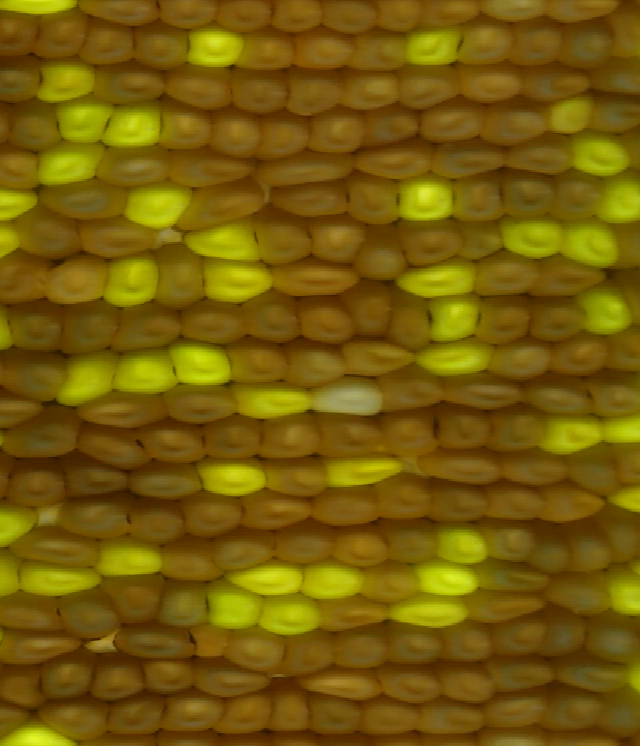fluorescent: (56, 349, 136, 411), (181, 217, 269, 267), (174, 22, 258, 74), (116, 339, 184, 403), (564, 280, 640, 335), (399, 253, 486, 301), (168, 329, 238, 388), (307, 369, 383, 423), (230, 378, 312, 427), (569, 123, 633, 185), (393, 172, 464, 227), (312, 453, 409, 493), (37, 51, 101, 111), (198, 253, 273, 304), (11, 556, 101, 598), (495, 209, 569, 260), (536, 408, 607, 460), (265, 588, 330, 643), (91, 533, 162, 583), (202, 577, 260, 637), (121, 178, 195, 225), (196, 454, 270, 501), (99, 102, 174, 148), (104, 253, 162, 312), (225, 559, 310, 599), (564, 219, 622, 277), (421, 288, 479, 346), (35, 141, 104, 187), (299, 557, 368, 603), (56, 92, 117, 144), (414, 339, 495, 378), (402, 19, 464, 69), (393, 591, 467, 632), (432, 519, 490, 570), (417, 560, 483, 601), (551, 95, 609, 138), (599, 170, 640, 229), (0, 497, 42, 553), (0, 172, 43, 223), (595, 404, 640, 444), (607, 565, 640, 619)
nonfluorescent: (170, 178, 273, 228), (39, 171, 139, 220), (117, 616, 206, 670), (0, 402, 78, 462), (268, 260, 370, 304), (1, 346, 72, 409), (1, 529, 110, 570), (14, 201, 83, 265), (169, 145, 267, 190), (177, 297, 259, 349), (244, 288, 315, 348), (263, 143, 362, 186), (511, 369, 591, 422), (478, 96, 554, 151), (139, 413, 216, 467), (338, 167, 406, 227), (74, 420, 154, 471), (352, 139, 444, 183), (421, 445, 505, 493), (495, 441, 577, 490), (247, 212, 320, 267), (167, 60, 244, 112), (316, 409, 386, 466), (257, 178, 354, 219), (131, 17, 194, 80), (569, 437, 630, 502), (302, 293, 368, 353), (74, 214, 168, 256), (186, 488, 254, 546), (0, 244, 57, 313), (226, 64, 296, 120), (305, 103, 373, 160), (468, 248, 544, 299), (38, 693, 111, 746), (484, 334, 558, 386), (328, 623, 399, 677), (62, 293, 120, 359), (154, 243, 210, 311), (158, 686, 227, 741), (452, 12, 516, 71), (98, 146, 183, 190), (258, 408, 318, 470), (322, 480, 385, 539), (488, 397, 552, 455), (273, 513, 343, 566), (446, 366, 526, 412), (122, 302, 190, 356), (2, 462, 74, 513), (80, 390, 174, 429), (157, 95, 217, 156), (498, 162, 557, 224), (569, 513, 622, 582), (209, 524, 285, 572), (544, 687, 620, 735), (386, 286, 438, 356), (285, 64, 352, 118), (449, 64, 544, 102), (527, 295, 595, 348), (63, 585, 122, 646), (432, 398, 496, 454), (154, 535, 228, 583), (272, 628, 346, 676), (258, 99, 311, 166), (380, 469, 441, 527), (410, 212, 467, 274), (158, 382, 251, 420), (533, 257, 617, 299), (243, 486, 312, 537), (373, 364, 451, 409), (486, 653, 564, 698), (354, 225, 414, 283), (98, 61, 175, 106), (9, 90, 63, 154), (521, 62, 596, 108), (551, 16, 616, 69), (47, 653, 112, 706), (558, 650, 631, 697), (422, 95, 483, 151), (33, 8, 88, 70), (546, 337, 617, 385), (257, 456, 331, 502), (431, 138, 517, 177), (231, 25, 298, 75), (315, 592, 389, 637), (227, 622, 286, 678), (204, 104, 264, 159), (548, 169, 609, 223), (112, 571, 165, 633), (135, 653, 202, 702), (201, 413, 264, 465), (130, 462, 214, 501), (106, 688, 163, 745), (380, 411, 443, 462), (473, 554, 546, 598), (80, 17, 136, 74), (62, 456, 138, 498), (468, 587, 543, 629), (456, 172, 511, 229), (588, 609, 640, 669), (307, 660, 383, 701), (309, 214, 370, 265), (56, 502, 135, 541), (286, 346, 363, 386), (227, 345, 302, 386), (0, 585, 64, 633), (199, 661, 275, 701), (48, 259, 111, 307), (293, 22, 351, 74), (9, 302, 67, 354), (223, 687, 278, 741), (380, 624, 444, 670), (0, 137, 57, 188), (0, 625, 83, 660), (351, 28, 409, 78), (478, 299, 536, 349), (363, 101, 422, 150), (493, 617, 552, 666), (162, 580, 210, 639), (330, 523, 394, 567), (551, 576, 618, 618), (418, 692, 486, 733), (380, 523, 446, 565), (507, 135, 578, 174), (495, 481, 546, 535), (262, 687, 316, 738), (338, 70, 405, 111), (439, 619, 500, 664), (484, 683, 546, 727), (351, 337, 414, 380), (525, 528, 577, 580), (348, 285, 396, 341), (306, 691, 364, 737), (544, 481, 607, 523), (0, 657, 48, 711), (101, 654, 149, 707), (441, 478, 495, 525), (321, 2, 386, 41), (443, 662, 500, 706), (493, 514, 546, 561), (128, 503, 190, 543), (400, 69, 463, 108), (510, 16, 560, 64), (363, 698, 423, 738), (452, 218, 506, 262), (602, 508, 640, 570), (0, 55, 48, 104), (367, 567, 421, 609), (590, 88, 640, 133), (0, 8, 38, 65), (591, 376, 640, 420), (594, 54, 640, 99), (544, 607, 583, 660), (386, 671, 444, 706), (273, 3, 332, 37), (0, 386, 46, 429), (605, 4, 640, 60), (0, 454, 35, 508), (0, 693, 36, 745), (160, 1, 222, 30), (605, 218, 640, 269), (378, 2, 427, 37), (598, 697, 640, 737), (222, 2, 274, 34), (427, 4, 486, 32), (602, 332, 640, 374), (193, 627, 238, 662), (0, 696, 33, 733)
